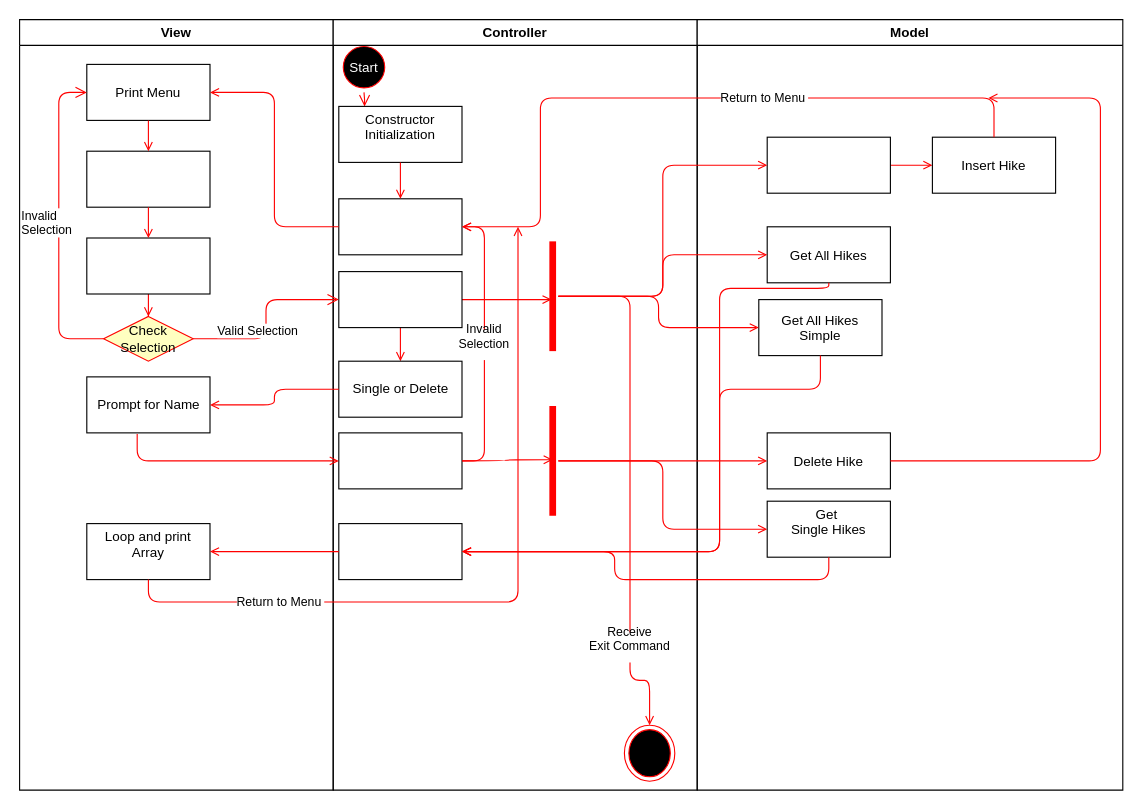
The diagram is 1142 pixels wide and 810 high, and some of its shapes have lost their labels. The shapes that lost their labels are listed below. From the top down, each one's box as (x1, y1, x2, y2) in pixels, then its label:
(86, 150, 210, 207): Prompt User for Selection
(766, 136, 890, 193): Accept Hike
(338, 198, 462, 255): Show User Menu
(86, 237, 210, 294): Return User Selection
(338, 270, 462, 328): Handle User Input
(338, 432, 462, 489): Receive Name From User
(338, 522, 462, 580): Receive Hike Array
(623, 724, 675, 781): End
